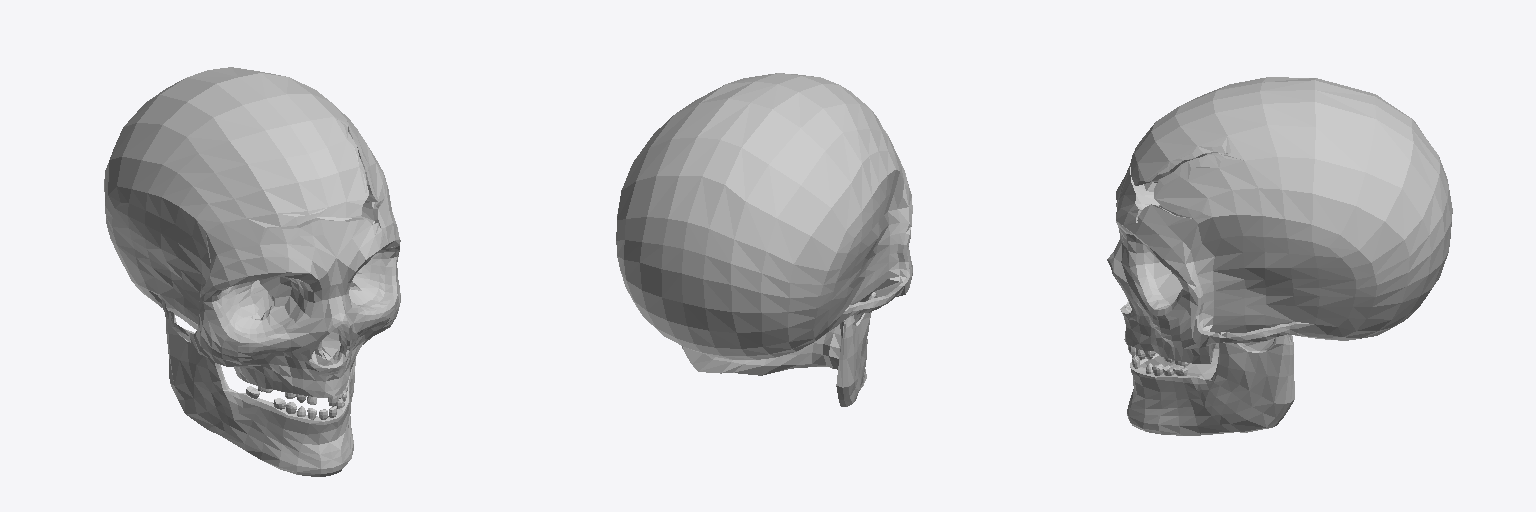
The model's file is Skull.obj.
3 views of the same model, side by side, from view 1: azimuth 30°, elevation 25°; view 2: azimuth 150°, elevation 25°; view 3: azimuth 270°, elevation 25° (orthographic).
Visible parts, largest first — view 1: Skull_(1); view 2: Skull_(1); view 3: Skull_(1).
Boxes of the visible parts, box(x1,y1,x2,y2) form: Skull_(1): box(104, 67, 400, 476); Skull_(1): box(616, 73, 912, 406); Skull_(1): box(1107, 77, 1452, 435).
Bounding box in the file's own units: 1.52 × 2.17 × 2.05.